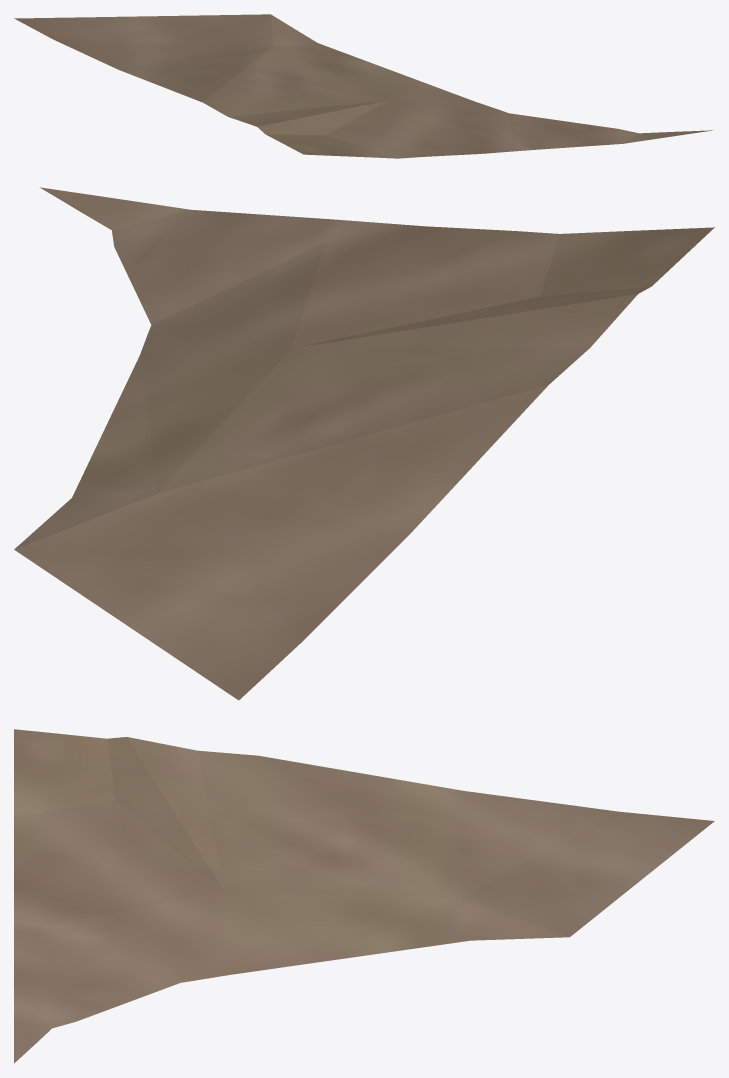
3 renders of one model, top to bottom at view 1: azimuth 30°, elevation 25°; view 2: azimuth 150°, elevation 25°; view 3: azimuth 270°, elevation 25°, orthographic. The views are drawn at different scales.
Bounding box in the file's own units: 0.1541 × 0.0272 × 0.188.
Materials: 1 (1 with a texture image).
